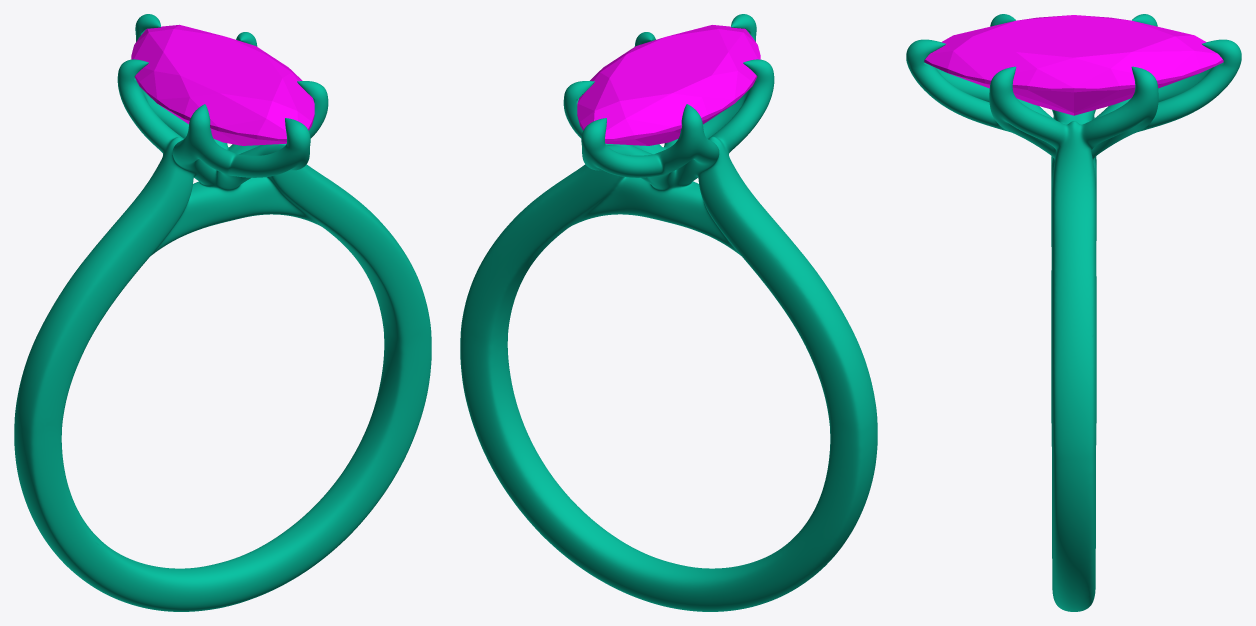
The model's file is BE1761_MQ_200ct_RENDER.glb.
3 renders of one model, left to right at view 1: azimuth 30°, elevation 25°; view 2: azimuth 150°, elevation 25°; view 3: azimuth 270°, elevation 25°, orthographic. The views are drawn at different scales.
Parts seen in each view (by area): view 1: Metal 01, CS_Diamond_Marquise; view 2: Metal 01, CS_Diamond_Marquise; view 3: Metal 01, CS_Diamond_Marquise.
Boxes of the visible parts, x1,y1,x2,y2 form: Metal 01: (14,14,431,611); CS_Diamond_Marquise: (131,24,314,145); Metal 01: (460,14,877,611); CS_Diamond_Marquise: (577,25,760,145); Metal 01: (906,14,1241,611); CS_Diamond_Marquise: (924,15,1223,115).
Bounding box in the file's own units: 20.11 × 25.49 × 14.02.
